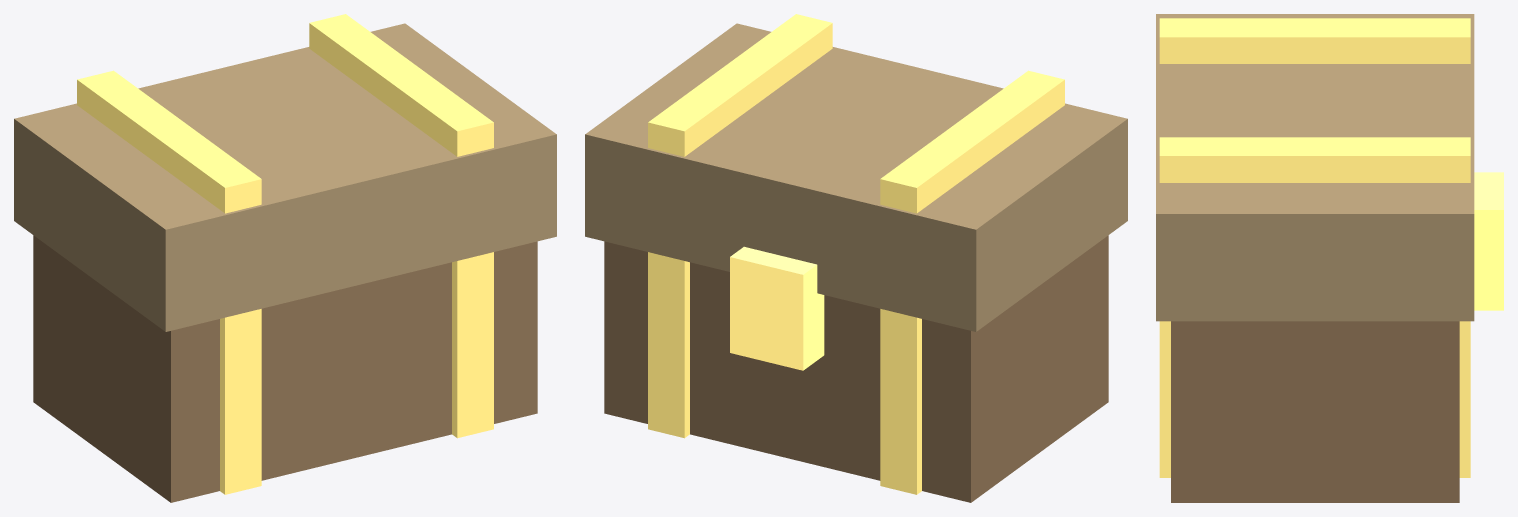
File: chest.glb
3 views of the same model, side by side, from view 1: azimuth 30°, elevation 25°; view 2: azimuth 150°, elevation 25°; view 3: azimuth 270°, elevation 25° (orthographic). The views are drawn at different scales.
Parts seen in each view (by area): view 1: ChestLid, ChestBody, ChestBandA, ChestBandB; view 2: ChestLid, ChestBody, ChestBandA, ChestBandB, ChestLock; view 3: ChestLid, ChestBody, ChestBandB, ChestBandA, ChestLock.
Boxes of the visible parts, box(x1,y1,x2,y2) form: ChestLid: box(14, 23, 556, 331); ChestBody: box(33, 235, 537, 502); ChestBandA: box(77, 70, 261, 494); ChestBandB: box(309, 14, 493, 438); ChestLid: box(585, 23, 1127, 331); ChestBody: box(604, 235, 1108, 502); ChestBandA: box(880, 70, 1064, 494); ChestBandB: box(648, 14, 832, 438); ChestLock: box(730, 246, 824, 370); ChestLid: box(1156, 14, 1474, 321); ChestBody: box(1171, 321, 1459, 502); ChestBandB: box(1159, 137, 1470, 477); ChestBandA: box(1159, 18, 1470, 63); ChestLock: box(1474, 172, 1503, 310).
Bounding box in the file's own units: 1.28 × 0.96 × 0.94.
